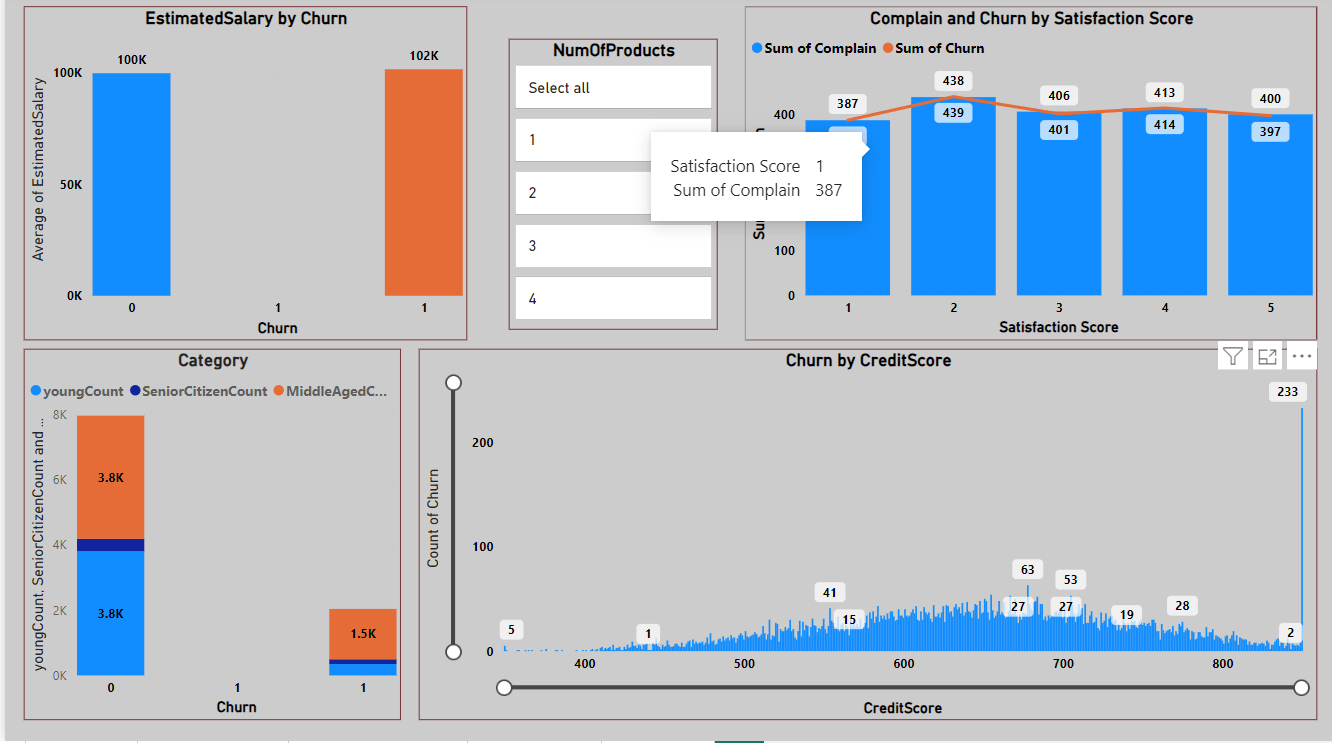

What the dashboard file says about the page in this screenshot:
{"tool":"powerbi","page":{"name":"Productwise Churn","canvas":[1280,720],"ordinal":3},"visuals":[{"type":"columnChart","title":"Category","fields":{"Category":["dataset.Churn"],"Y":["dataset.youngCount","dataset.SeniorCitizenCount","dataset.MiddleAgedCount"]},"box":[18.1,341.3,364.2,358.2],"z":0},{"type":"lineClusteredColumnComboChart","title":"Churn by CreditScore","fields":{"Category":["dataset.CreditScore"],"Y":["CountNonNull(dataset.Churn)"]},"box":[399.2,341.3,867.1,358.2],"z":1000},{"type":"columnChart","title":"EstimatedSalary by Churn","fields":{"Category":["dataset.Churn"],"Y":["Avg(dataset.EstimatedSalary)"]},"box":[18.1,10.9,428.1,322],"z":2000},{"type":"lineStackedColumnComboChart","title":"Complain and Churn by Satisfaction Score","fields":{"Category":["dataset.Satisfaction Score"],"Y":["Sum(dataset.Complain)"],"Y2":["Sum(dataset.Churn)"]},"box":[714,10.9,552.4,322],"z":3000},{"type":"advancedSlicerVisual","fields":{"Values":["dataset.NumOfProducts"]},"box":[486,42.2,201.4,281],"z":4000}]}

Visuals, with their boxes in screenshot pixels (x1, y1, x2, y2), scaled from the page's 1280x720 canvas onto the 1332x743 screenshot:
"Category" columnChart: select_region(19, 352, 398, 722)
"Churn by CreditScore" lineClusteredColumnComboChart: select_region(415, 352, 1318, 722)
"EstimatedSalary by Churn" columnChart: select_region(19, 11, 464, 344)
"Complain and Churn by Satisfaction Score" lineStackedColumnComboChart: select_region(743, 11, 1318, 344)
advancedSlicerVisual - dataset.NumOfProducts: select_region(506, 44, 715, 334)
